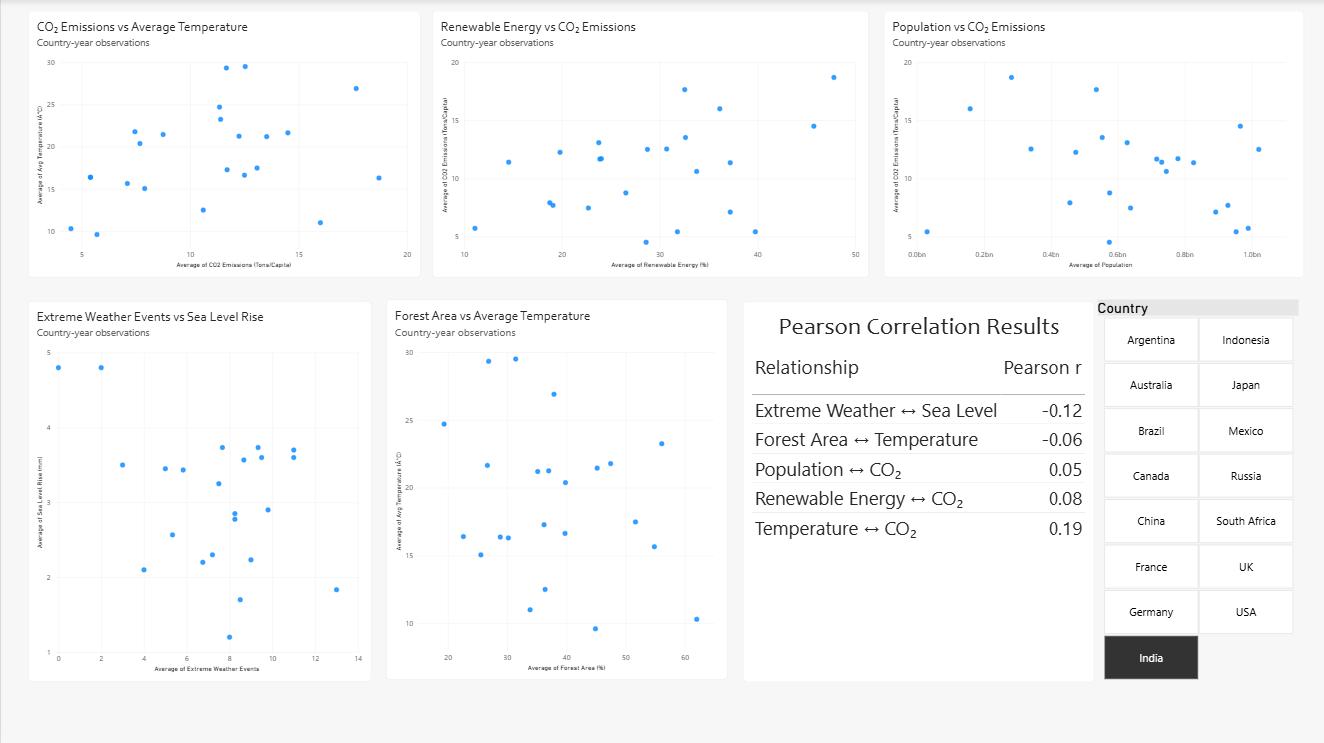

What the dashboard file says about the page in this screenshot:
{"tool":"powerbi","page":{"name":"Page 2","canvas":[2560,1440],"ordinal":1},"visuals":[{"type":"scatterChart","title":"CO₂ Emissions vs Average Temperature","fields":{"Category":["climate_analysis climate_change.Year"],"X":["Avg(climate_analysis climate_change.CO2 Emissions (Tons/Capita))"],"Y":["Avg(climate_analysis climate_change.Avg Temperature (Â°C))"]},"box":[52.4,22.9,756.9,514.5],"z":0},{"type":"scatterChart","title":"Renewable Energy vs CO₂ Emissions","fields":{"Category":["climate_analysis climate_change.Year"],"X":["Avg(climate_analysis climate_change.Renewable Energy (%))"],"Y":["Avg(climate_analysis climate_change.CO2 Emissions (Tons/Capita))"]},"box":[832.3,22.9,842.1,514.5],"z":1},{"type":"scatterChart","title":"Population vs CO₂ Emissions","fields":{"Category":["climate_analysis climate_change.Year"],"X":["Avg(climate_analysis climate_change.Population)"],"Y":["Avg(climate_analysis climate_change.CO2 Emissions (Tons/Capita))"]},"box":[1703.9,22.9,812.6,514.5],"z":2},{"type":"scatterChart","title":"Extreme Weather Events vs Sea Level Rise","fields":{"Category":["climate_analysis climate_change.Year"],"X":["Avg(climate_analysis climate_change.Extreme Weather Events)"],"Y":["Avg(climate_analysis climate_change.Sea Level Rise (mm))"]},"box":[52.4,583.3,661.9,734],"z":3},{"type":"scatterChart","title":"Forest Area vs Average Temperature","fields":{"Category":["climate_analysis climate_change.Year"],"X":["Avg(climate_analysis climate_change.Forest Area (%))"],"Y":["Avg(climate_analysis climate_change.Avg Temperature (Â°C))"]},"box":[743.8,580,658.6,734],"z":4},{"type":"slicer","fields":{"Values":["climate_analysis climate_change.Country"]},"box":[2111.8,580.3,404,734.5],"z":5},{"type":"tableEx","title":"Pearson Correlation Results","fields":{"Values":["Correlation Relationships.Relationship","climate_analysis climate_change.Pearson r"]},"box":[1432,583.3,679.5,735],"z":6}]}

Visuals, with their boxes in screenshot pixels (x1, y1, x2, y2), scaled from the page's 2560x1440 canvas onto the 1324x743 screenshot:
"CO₂ Emissions vs Average Temperature" scatterChart: select_region(27, 12, 419, 277)
"Renewable Energy vs CO₂ Emissions" scatterChart: select_region(430, 12, 866, 277)
"Population vs CO₂ Emissions" scatterChart: select_region(881, 12, 1302, 277)
"Extreme Weather Events vs Sea Level Rise" scatterChart: select_region(27, 301, 369, 680)
"Forest Area vs Average Temperature" scatterChart: select_region(385, 299, 725, 678)
slicer - climate_analysis climate_change.Country: select_region(1092, 299, 1301, 678)
"Pearson Correlation Results" tableEx: select_region(741, 301, 1092, 680)
